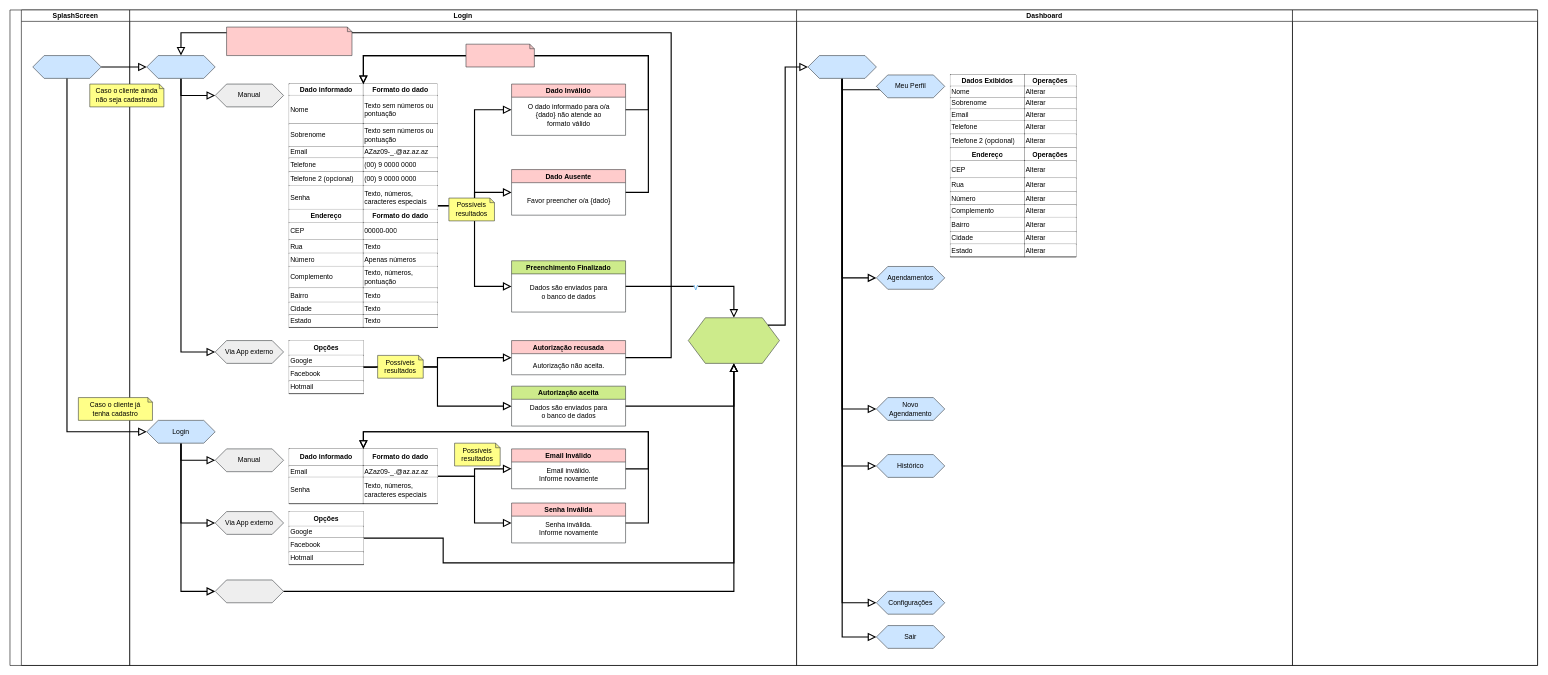
The diagram is 1548 pixels wide and 675 high, and some of its shapes have lost their labels. Each missing label, with the centre of its shape:
Automático: point 249,591
Cadastro: point 180,66
Lane 3: point 1415,337
Opção de tentar novamente cadastro via app externo, ou manual: point 289,41
Prossegue para tela principal: point 733,340
Solicitação de preenchimento: point 499,55
Tela de carregamento: point 66,66
Tela principal: point 841,66
